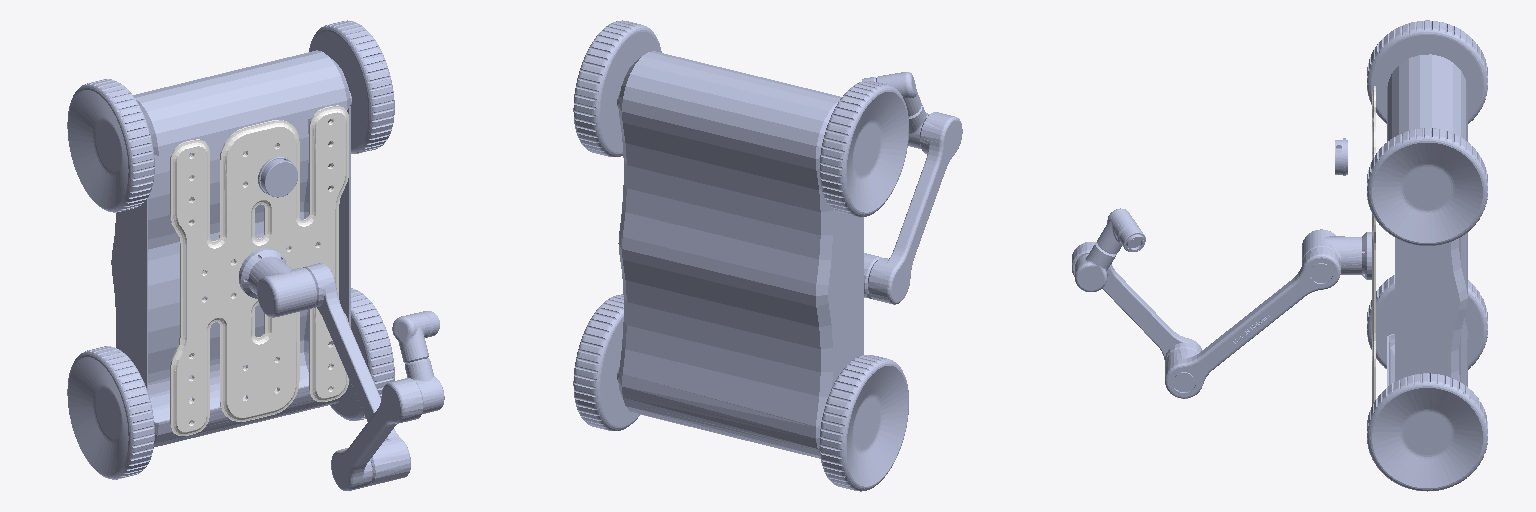
robot.urdf — algo6_bot:
<?xml version="1.0" encoding="utf-8"?>
<!-- This URDF was automatically created by SolidWorks to URDF Exporter! Originally created by [author] ([email redacted]) 
     Commit Version: 1.5.1-0-g916b5db  Build Version: 1.5.7152.31018
     For more information, please see http://wiki.ros.org/sw_urdf_exporter -->
<robot
  name="algo6_bot">
  <link
    name="base_link">
    <inertial>
      <origin
        xyz="0.200001512178053 0.241852211356269 -0.0225098451215039"
        rpy="0 0 0" />
      <mass
        value="1.62971419738771" />
      <inertia
        ixx="0.0827115360073378"
        ixy="9.73763421212959E-07"
        ixz="-9.00633062514957E-08"
        iyy="0.0362273244859443"
        iyz="0.000299055764514098"
        izz="0.111939320851762" />
    </inertial>
    <visual>
      <origin
        xyz="0 0 0"
        rpy="0 0 0" />
      <geometry>
        <mesh
          filename="package://algo6_bot/meshes/base_link.STL" />
      </geometry>
      <material
        name="">
        <color
          rgba="0.792156862745098 0.819607843137255 0.933333333333333 1" />
      </material>
    </visual>
    <collision>
      <origin
        xyz="0 0 0"
        rpy="0 0 0" />
      <geometry>
        <mesh
          filename="package://algo6_bot/meshes/base_link.STL" />
      </geometry>
    </collision>
  </link>
  <link
    name="front_wheelR_link">
    <inertial>
      <origin
        xyz="0.43092 5.7902E-08 2.2629E-07"
        rpy="0 0 0" />
      <mass
        value="1.5702" />
      <inertia
        ixx="0.01072"
        ixy="3.7954E-08"
        ixz="6.247E-09"
        iyy="0.0056085"
        iyz="-1.4266E-08"
        izz="0.0056083" />
    </inertial>
    <visual>
      <origin
        xyz="0 0 0"
        rpy="0 0 0" />
      <geometry>
        <mesh
          filename="package://algo6_bot/meshes/front_wheelR_link.STL" />
      </geometry>
      <material
        name="">
        <color
          rgba="0.79216 0.81961 0.93333 1" />
      </material>
    </visual>
    <collision>
      <origin
        xyz="0 0 0"
        rpy="0 0 0" />
      <geometry>
        <mesh
          filename="package://algo6_bot/meshes/front_wheelR_link.STL" />
      </geometry>
    </collision>
  </link>
  <joint
    name="front_wheelR_joint"
    type="revolute">
    <origin
      xyz="0 0 0.5"
      rpy="1.5708 0 0" />
    <parent
      link="base_link" />
    <child
      link="front_wheelR_link" />
    <axis
      xyz="0 0 0" />
    <limit
      lower="0"
      upper="0"
      effort="0"
      velocity="0" />
  </joint>
  <link
    name="front_wheelL_link">
    <inertial>
      <origin
        xyz="0.430921320844651 5.79020018598442E-08 2.26289091623892E-07"
        rpy="0 0 0" />
      <mass
        value="1.57018655061563" />
      <inertia
        ixx="0.0107199439893528"
        ixy="3.79535822746064E-08"
        ixz="6.24698917361356E-09"
        iyy="0.00560851970839014"
        iyz="-1.42662595837644E-08"
        izz="0.00560831004132884" />
    </inertial>
    <visual>
      <origin
        xyz="0 0 0"
        rpy="0 0 0" />
      <geometry>
        <mesh
          filename="package://algo6_bot/meshes/front_wheelL_link.STL" />
      </geometry>
      <material
        name="">
        <color
          rgba="0.792156862745098 0.819607843137255 0.933333333333333 1" />
      </material>
    </visual>
    <collision>
      <origin
        xyz="0 0 0"
        rpy="0 0 0" />
      <geometry>
        <mesh
          filename="package://algo6_bot/meshes/front_wheelL_link.STL" />
      </geometry>
    </collision>
  </link>
  <joint
    name="front_wheelL_joint"
    type="revolute">
    <origin
      xyz="0.4 0 0.5"
      rpy="1.5708 0 -3.1416" />
    <parent
      link="base_link" />
    <child
      link="front_wheelL_link" />
    <axis
      xyz="0 0 0" />
    <limit
      lower="0"
      upper="0"
      effort="0"
      velocity="0" />
  </joint>
  <link
    name="back_wheelR_link">
    <inertial>
      <origin
        xyz="0.430921320886506 5.79020216028264E-08 2.2513866549201E-07"
        rpy="0 0 0" />
      <mass
        value="1.57018656673181" />
      <inertia
        ixx="0.0107199441880378"
        ixy="3.79702776290324E-08"
        ixz="6.25435598561781E-09"
        iyy="0.00560851992090271"
        iyz="-1.42662598964045E-08"
        izz="0.00560831005920041" />
    </inertial>
    <visual>
      <origin
        xyz="0 0 0"
        rpy="0 0 0" />
      <geometry>
        <mesh
          filename="package://algo6_bot/meshes/back_wheelR_link.STL" />
      </geometry>
      <material
        name="">
        <color
          rgba="0.792156862745098 0.819607843137255 0.933333333333333 1" />
      </material>
    </visual>
    <collision>
      <origin
        xyz="0 0 0"
        rpy="0 0 0" />
      <geometry>
        <mesh
          filename="package://algo6_bot/meshes/back_wheelR_link.STL" />
      </geometry>
    </collision>
  </link>
  <joint
    name="back_wheelR_joint"
    type="revolute">
    <origin
      xyz="0 0 0"
      rpy="1.228 0 0" />
    <parent
      link="base_link" />
    <child
      link="back_wheelR_link" />
    <axis
      xyz="0 0 0" />
    <limit
      lower="0"
      upper="0"
      effort="0"
      velocity="0" />
  </joint>
  <link
    name="back_wheelL_link">
    <inertial>
      <origin
        xyz="0.430921320844651 5.7902019392184E-08 2.26289091397043E-07"
        rpy="0 0 0" />
      <mass
        value="1.57018655061564" />
      <inertia
        ixx="0.0107199439893528"
        ixy="3.79535822722803E-08"
        ixz="6.24698917663655E-09"
        iyy="0.00560851970839018"
        iyz="-1.42662596040544E-08"
        izz="0.00560831004132886" />
    </inertial>
    <visual>
      <origin
        xyz="0 0 0"
        rpy="0 0 0" />
      <geometry>
        <mesh
          filename="package://algo6_bot/meshes/back_wheelL_link.STL" />
      </geometry>
      <material
        name="">
        <color
          rgba="0.792156862745098 0.819607843137255 0.933333333333333 1" />
      </material>
    </visual>
    <collision>
      <origin
        xyz="0 0 0"
        rpy="0 0 0" />
      <geometry>
        <mesh
          filename="package://algo6_bot/meshes/back_wheelL_link.STL" />
      </geometry>
    </collision>
  </link>
  <joint
    name="back_wheelL_joint"
    type="revolute">
    <origin
      xyz="0.4 0 0"
      rpy="-1.5708 0 3.1416" />
    <parent
      link="base_link" />
    <child
      link="back_wheelL_link" />
    <axis
      xyz="0 0 0" />
    <limit
      lower="0"
      upper="0"
      effort="0"
      velocity="0" />
  </joint>
  <link
    name="platform_link">
    <inertial>
      <origin
        xyz="0 0 0"
        rpy="0 0 0" />
      <mass
        value="0" />
      <inertia
        ixx="0"
        ixy="0"
        ixz="0"
        iyy="0"
        iyz="0"
        izz="0" />
    </inertial>
    <visual>
      <origin
        xyz="0 0 0"
        rpy="0 0 0" />
      <geometry>
        <mesh
          filename="package://algo6_bot/meshes/platform_link.STL" />
      </geometry>
      <material
        name="">
        <color
          rgba="1 1 1 1" />
      </material>
    </visual>
    <collision>
      <origin
        xyz="0 0 0"
        rpy="0 0 0" />
      <geometry>
        <mesh
          filename="package://algo6_bot/meshes/platform_link.STL" />
      </geometry>
    </collision>
  </link>
  <joint
    name="platform_joint"
    type="fixed">
    <origin
      xyz="0 -0.02 0"
      rpy="1.5708 0 0" />
    <parent
      link="base_link" />
    <child
      link="platform_link" />
    <axis
      xyz="0 0 0" />
  </joint>
  <link
    name="lidar_link">
    <inertial>
      <origin
        xyz="-1.44311769415262E-05 -3.95733034478929E-05 0.225986579401347"
        rpy="0 0 0" />
      <mass
        value="0.0626087319921524" />
      <inertia
        ixx="1.73287909876757E-05"
        ixy="1.11976874535981E-06"
        ixz="-2.85418842077003E-10"
        iyy="1.85076730925539E-05"
        iyz="-8.49249735471805E-10"
        izz="3.10067655835034E-05" />
    </inertial>
    <visual>
      <origin
        xyz="0 0 0"
        rpy="0 0 0" />
      <geometry>
        <mesh
          filename="package://algo6_bot/meshes/lidar_link.STL" />
      </geometry>
      <material
        name="">
        <color
          rgba="0.792156862745098 0.819607843137255 0.933333333333333 1" />
      </material>
    </visual>
    <collision>
      <origin
        xyz="0 0 0"
        rpy="0 0 0" />
      <geometry>
        <mesh
          filename="package://algo6_bot/meshes/lidar_link.STL" />
      </geometry>
    </collision>
  </link>
  <joint
    name="lidar_joint"
    type="fixed">
    <origin
      xyz="0.2 0.451 -0.085"
      rpy="0 0 3.1416" />
    <parent
      link="platform_link" />
    <child
      link="lidar_link" />
    <axis
      xyz="0 0 0" />
  </joint>
  <link
    name="robot_arm_base_link">
    <inertial>
      <origin
        xyz="-0.032307829842947 -0.0782281348686356 0.198084927755953"
        rpy="0 0 0" />
      <mass
        value="0.647775516079259" />
      <inertia
        ixx="0.00123935539869003"
        ixy="1.10931426285115E-08"
        ixz="-6.46709576300254E-09"
        iyy="0.00108876898407285"
        iyz="1.24433249926633E-05"
        izz="0.00059753096939592" />
    </inertial>
    <visual>
      <origin
        xyz="0 0 0"
        rpy="0 0 0" />
      <geometry>
        <mesh
          filename="package://algo6_bot/meshes/robot_arm_base_link.STL" />
      </geometry>
      <material
        name="">
        <color
          rgba="0.792156862745098 0.819607843137255 0.933333333333333 1" />
      </material>
    </visual>
    <collision>
      <origin
        xyz="0 0 0"
        rpy="0 0 0" />
      <geometry>
        <mesh
          filename="package://algo6_bot/meshes/robot_arm_base_link.STL" />
      </geometry>
    </collision>
  </link>
  <joint
    name="robot_arm_base_joint"
    type="fixed">
    <origin
      xyz="0.12246 0.28231 -0.05"
      rpy="0 0 1.5708" />
    <parent
      link="platform_link" />
    <child
      link="robot_arm_base_link" />
    <axis
      xyz="0 0 0" />
  </joint>
  <link
    name="robot_arm_link1">
    <inertial>
      <origin
        xyz="-0.152990690369013 -0.130949758510278 0.230331223634345"
        rpy="0 0 0" />
      <mass
        value="0.573239091567049" />
      <inertia
        ixx="0.000341763950181962"
        ixy="0.000527229762397376"
        ixz="-1.00040919870657E-08"
        iyy="0.0106532118617114"
        iyz="1.34984900371454E-09"
        izz="0.0106789128711268" />
    </inertial>
    <visual>
      <origin
        xyz="0 0 0"
        rpy="0 0 0" />
      <geometry>
        <mesh
          filename="package://algo6_bot/meshes/robot_arm_link1.STL" />
      </geometry>
      <material
        name="">
        <color
          rgba="0.792156862745098 0.819607843137255 0.933333333333333 1" />
      </material>
    </visual>
    <collision>
      <origin
        xyz="0 0 0"
        rpy="0 0 0" />
      <geometry>
        <mesh
          filename="package://algo6_bot/meshes/robot_arm_link1.STL" />
      </geometry>
    </collision>
  </link>
  <joint
    name="robot_arm_link1_joint"
    type="revolute">
    <origin
      xyz="-0.2331 0 0.10564"
      rpy="0 0.851 0" />
    <parent
      link="robot_arm_base_link" />
    <child
      link="robot_arm_link1" />
    <axis
      xyz="0 0 0" />
    <limit
      lower="0"
      upper="0"
      effort="0"
      velocity="0" />
  </joint>
  <link
    name="robot_arm_link2">
    <inertial>
      <origin
        xyz="-1.10280193052099 -0.05999538346491 -0.518612577309713"
        rpy="0 0 0" />
      <mass
        value="0.599895947397101" />
      <inertia
        ixx="0.000502604552655828"
        ixy="-0.000606376669837302"
        ixz="2.01562179111823E-07"
        iyy="0.00742460590373101"
        iyz="2.59824548473619E-08"
        izz="0.00763699028242569" />
    </inertial>
    <visual>
      <origin
        xyz="0 0 0"
        rpy="0 0 0" />
      <geometry>
        <mesh
          filename="package://algo6_bot/meshes/robot_arm_link2.STL" />
      </geometry>
      <material
        name="">
        <color
          rgba="0.792156862745098 0.819607843137255 0.933333333333333 1" />
      </material>
    </visual>
    <collision>
      <origin
        xyz="0 0 0"
        rpy="0 0 0" />
      <geometry>
        <mesh
          filename="package://algo6_bot/meshes/robot_arm_link2.STL" />
      </geometry>
    </collision>
  </link>
  <joint
    name="robot_arm_link2_joint"
    type="revolute">
    <origin
      xyz="-0.81392 0 1.4339"
      rpy="-0.17027 -1.5708 0.1713" />
    <parent
      link="robot_arm_link1" />
    <child
      link="robot_arm_link2" />
    <axis
      xyz="0 0 0" />
    <limit
      lower="0"
      upper="0"
      effort="0"
      velocity="0" />
  </joint>
  <link
    name="robot_arm_link3">
    <inertial>
      <origin
        xyz="0.829667891947315 -0.0931815081581417 2.29119222919717"
        rpy="0 0 0" />
      <mass
        value="0.231316775852319" />
      <inertia
        ixx="0.00022997720676195"
        ixy="6.72354827063439E-11"
        ixz="1.2756844953421E-10"
        iyy="0.000191660644842524"
        iyz="2.12181011880653E-05"
        izz="0.000119127278624079" />
    </inertial>
    <visual>
      <origin
        xyz="0 0 0"
        rpy="0 0 0" />
      <geometry>
        <mesh
          filename="package://algo6_bot/meshes/robot_arm_link3.STL" />
      </geometry>
      <material
        name="">
        <color
          rgba="0.792156862745098 0.819607843137255 0.933333333333333 1" />
      </material>
    </visual>
    <collision>
      <origin
        xyz="0 0 0"
        rpy="0 0 0" />
      <geometry>
        <mesh
          filename="package://algo6_bot/meshes/robot_arm_link3.STL" />
      </geometry>
    </collision>
  </link>
  <joint
    name="robot_arm_link3_joint"
    type="revolute">
    <origin
      xyz="-0.92471 0 1.9056"
      rpy="3.1416 0.34202 3.1416" />
    <parent
      link="robot_arm_link2" />
    <child
      link="robot_arm_link3" />
    <axis
      xyz="0 0 0" />
    <limit
      lower="0"
      upper="0"
      effort="0"
      velocity="0" />
  </joint>
  <link
    name="robot_arm_link4">
    <inertial>
      <origin
        xyz="0.0748615885982825 -0.526342838036394 2.76056312212884"
        rpy="0 0 0" />
      <mass
        value="0.155314854617675" />
      <inertia
        ixx="9.7408494664753E-05"
        ixy="-9.93658607956175E-06"
        ixz="1.8038140532317E-05"
        iyy="7.65614151543568E-05"
        iyz="1.11582318166315E-05"
        izz="9.32328235093548E-05" />
    </inertial>
    <visual>
      <origin
        xyz="0 0 0"
        rpy="0 0 0" />
      <geometry>
        <mesh
          filename="package://algo6_bot/meshes/robot_arm_link4.STL" />
      </geometry>
      <material
        name="">
        <color
          rgba="0.792156862745098 0.819607843137255 0.933333333333333 1" />
      </material>
    </visual>
    <collision>
      <origin
        xyz="0 0 0"
        rpy="0 0 0" />
      <geometry>
        <mesh
          filename="package://algo6_bot/meshes/robot_arm_link4.STL" />
      </geometry>
    </collision>
  </link>
  <joint
    name="robot_arm_link4_joint"
    type="revolute">
    <origin
      xyz="-1.0917 -0.49582 0.37304"
      rpy="0 0.7278 0.46994" />
    <parent
      link="robot_arm_link3" />
    <child
      link="robot_arm_link4" />
    <axis
      xyz="0 0 0" />
    <limit
      lower="0"
      upper="0"
      effort="0"
      velocity="0" />
  </joint>
  <link
    name="End_effector_link">
    <inertial>
      <origin
        xyz="-0.236189626357559 -0.0989956688234041 0.671666792539085"
        rpy="0 0 0" />
      <mass
        value="0.0251557542631449" />
      <inertia
        ixx="5.1902537461543E-06"
        ixy="5.11669125379852E-07"
        ixz="2.44548653157685E-07"
        iyy="7.01172848209814E-06"
        iyz="9.34436430016979E-07"
        izz="5.50295987865364E-06" />
    </inertial>
    <visual>
      <origin
        xyz="0 0 0"
        rpy="0 0 0" />
      <geometry>
        <mesh
          filename="package://algo6_bot/meshes/End_effector_link.STL" />
      </geometry>
      <material
        name="">
        <color
          rgba="0.792156862745098 0.819607843137255 0.933333333333333 1" />
      </material>
    </visual>
    <collision>
      <origin
        xyz="0 0 0"
        rpy="0 0 0" />
      <geometry>
        <mesh
          filename="package://algo6_bot/meshes/End_effector_link.STL" />
      </geometry>
    </collision>
  </link>
  <joint
    name="End_effector_link_joint"
    type="revolute">
    <origin
      xyz="-0.16652 -0.71205 3.4332"
      rpy="2.7103 -0.06143 2.9093" />
    <parent
      link="robot_arm_link4" />
    <child
      link="End_effector_link" />
    <axis
      xyz="0 0 0" />
    <limit
      lower="0"
      upper="0"
      effort="0"
      velocity="0" />
  </joint>
</robot>

--- Render facts (derived) ---
Views: 3 orthographic renders of the robot side by side, from view 1: azimuth 30°, elevation 25°; view 2: azimuth 150°, elevation 25°; view 3: azimuth 270°, elevation 25°.
Model algo6_bot with 13 links and 12 joints (9 revolute, 3 fixed), rooted at base_link, posed every joint at zero.
Visible links, largest first — view 1: platform_link, base_link, front_wheelL_link, back_wheelL_link, front_wheelR_link, robot_arm_link1, robot_arm_link2, robot_arm_base_link, back_wheelR_link, robot_arm_link4, lidar_link, robot_arm_link3; view 2: base_link, back_wheelL_link, front_wheelL_link, front_wheelR_link, robot_arm_link2, back_wheelR_link, robot_arm_link4; view 3: base_link, front_wheelR_link, back_wheelR_link, robot_arm_link1, front_wheelL_link, back_wheelL_link, robot_arm_link2, robot_arm_base_link, robot_arm_link3, platform_link, robot_arm_link4.
Link boxes in pixels (x1,y1,x2,y2): platform_link: (170, 105, 348, 435); base_link: (111, 50, 351, 446); front_wheelL_link: (67, 79, 154, 212); back_wheelL_link: (67, 346, 154, 479); front_wheelR_link: (309, 20, 394, 153); robot_arm_link1: (303, 263, 410, 485); robot_arm_link2: (331, 378, 423, 490); robot_arm_base_link: (239, 248, 316, 317); back_wheelR_link: (330, 288, 394, 420); robot_arm_link4: (392, 313, 430, 363); lidar_link: (258, 156, 297, 197); robot_arm_link3: (405, 358, 444, 413); base_link: (617, 51, 863, 458); back_wheelL_link: (820, 355, 908, 491); front_wheelL_link: (820, 81, 908, 217); front_wheelR_link: (573, 20, 661, 156); robot_arm_link2: (868, 112, 962, 304); back_wheelR_link: (573, 294, 639, 430); robot_arm_link4: (876, 72, 921, 116); base_link: (1387, 54, 1467, 386); front_wheelR_link: (1367, 128, 1487, 245); back_wheelR_link: (1367, 373, 1487, 491); robot_arm_link1: (1165, 247, 1340, 398); front_wheelL_link: (1367, 20, 1487, 123); back_wheelL_link: (1367, 275, 1487, 369); robot_arm_link2: (1072, 242, 1202, 360); robot_arm_base_link: (1302, 229, 1371, 279); robot_arm_link3: (1075, 242, 1116, 291); platform_link: (1372, 86, 1375, 404); robot_arm_link4: (1097, 208, 1138, 253).
Bounding box of the posed robot: 0.52 × 0.77 × 0.7249 m (x, y, z).
Meshes: 13 distinct files referenced, 13 mesh visuals loaded (13 binary STL).